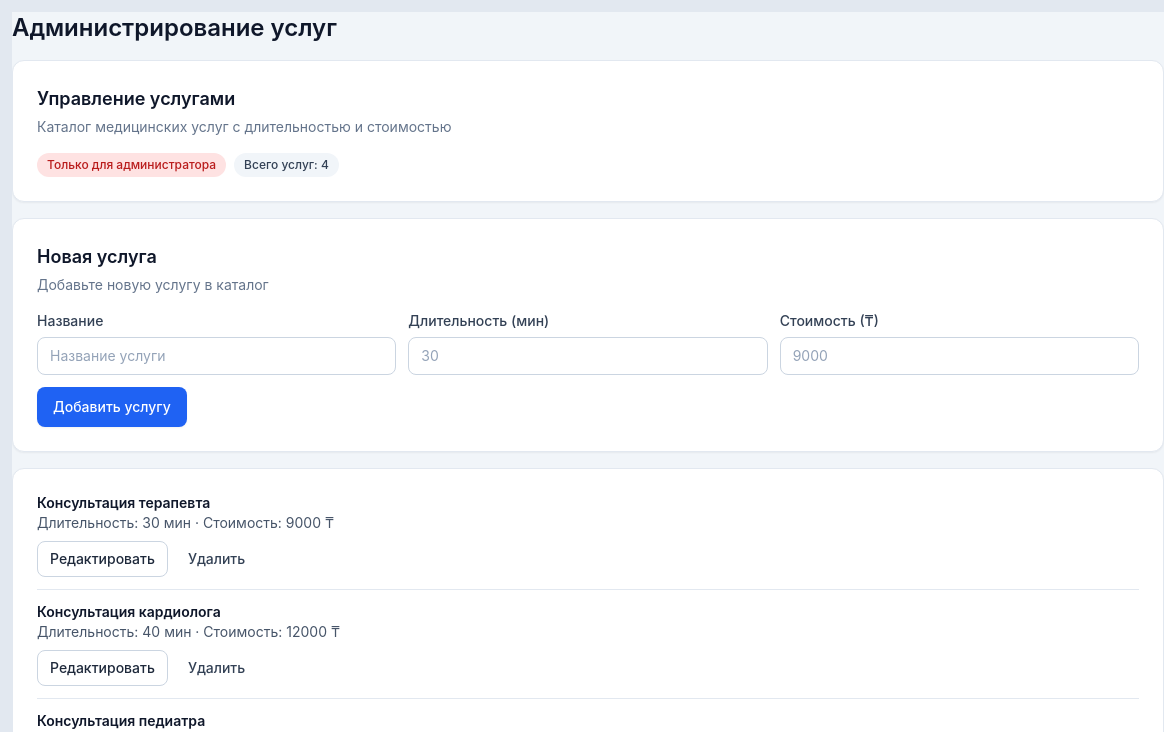
Test case: AdminServicesPage integration › удаляет услугу из списка
The width and height of the screenshot is (1164, 732).
expect the element "Консультация кардиолога" is shown: met, box top-left (37, 589), bottom-right (1139, 698)
Step 1. Click the button "Удалить" below "12000" → coordinates (217, 668), box top-left (176, 650), bottom-right (257, 686)
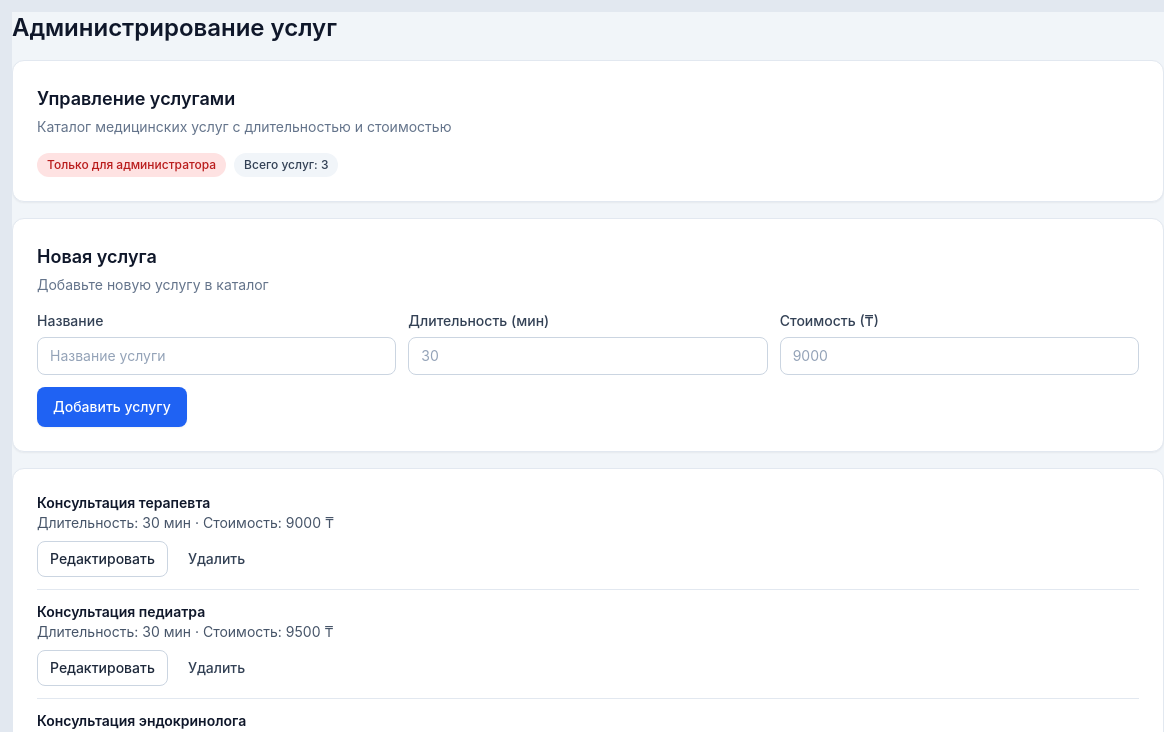
expect the heading "Консультация кардиолога" is gone: met
expect the text "Всего услуг: 3" is shown: met, box top-left (234, 153), bottom-right (338, 177)
